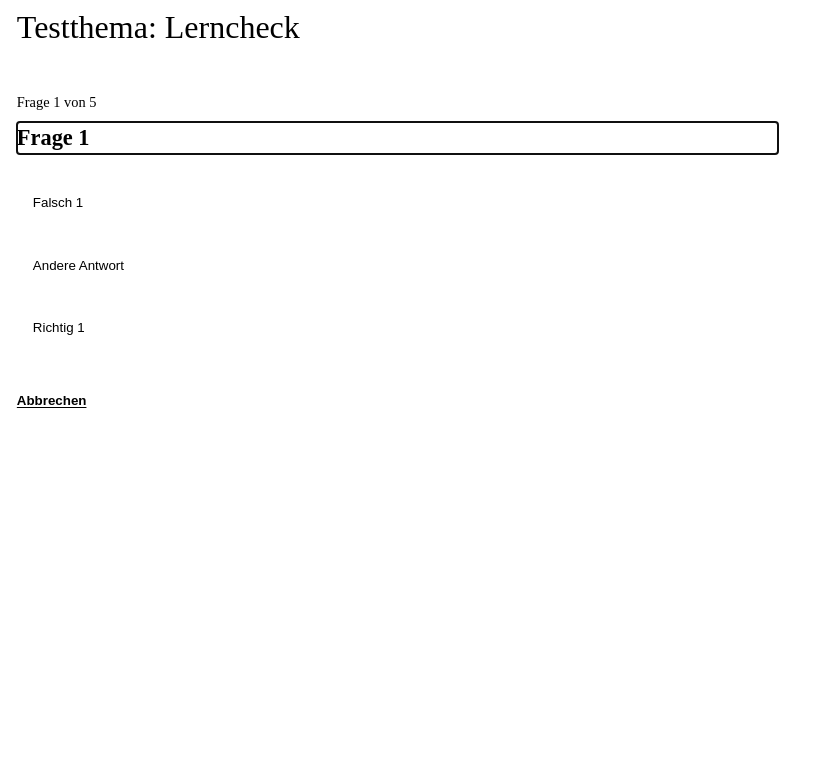
LearningCheck › reports failed saving at the result without retrying the same run
Step 1. Click the button "Richtig 1" → (59, 328), box 17,302 -> 809,354
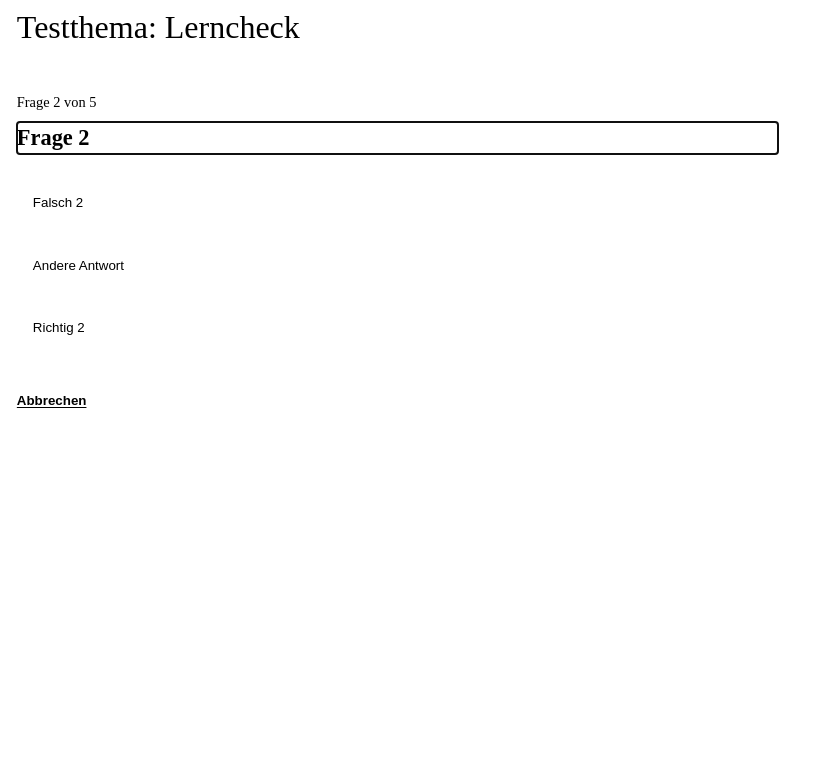
Step 2. Click the button "Richtig 2" → (59, 328), box 17,302 -> 809,354
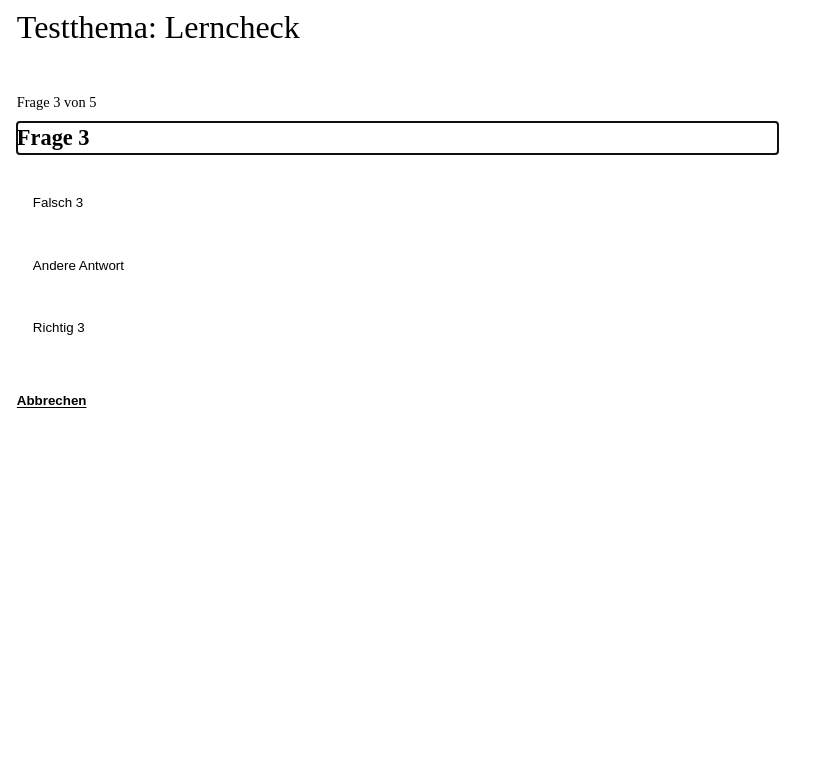
Step 3. Click the button "Richtig 3" → (59, 328), box 17,302 -> 809,354
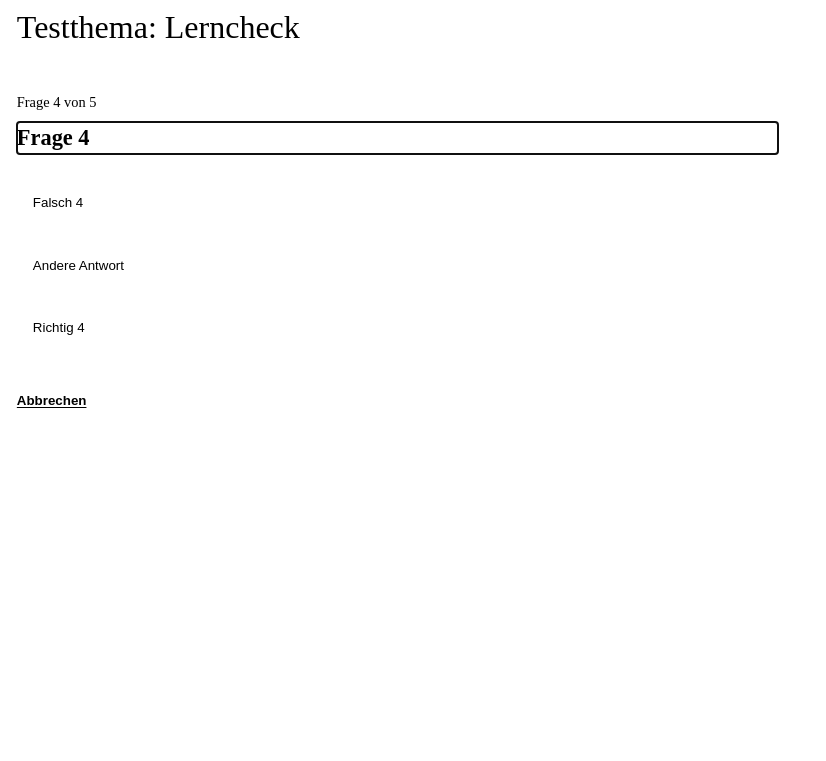
Step 4. Click the button "Richtig 4" → (59, 328), box 17,302 -> 809,354
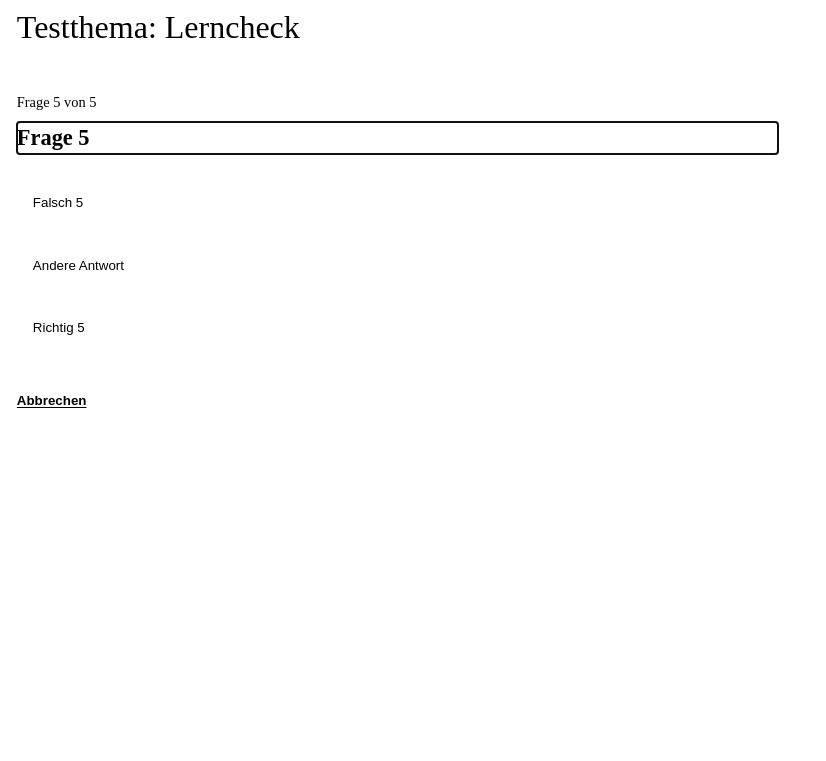
Step 5. Click the button "Richtig 5" → (59, 328), box 17,302 -> 809,354
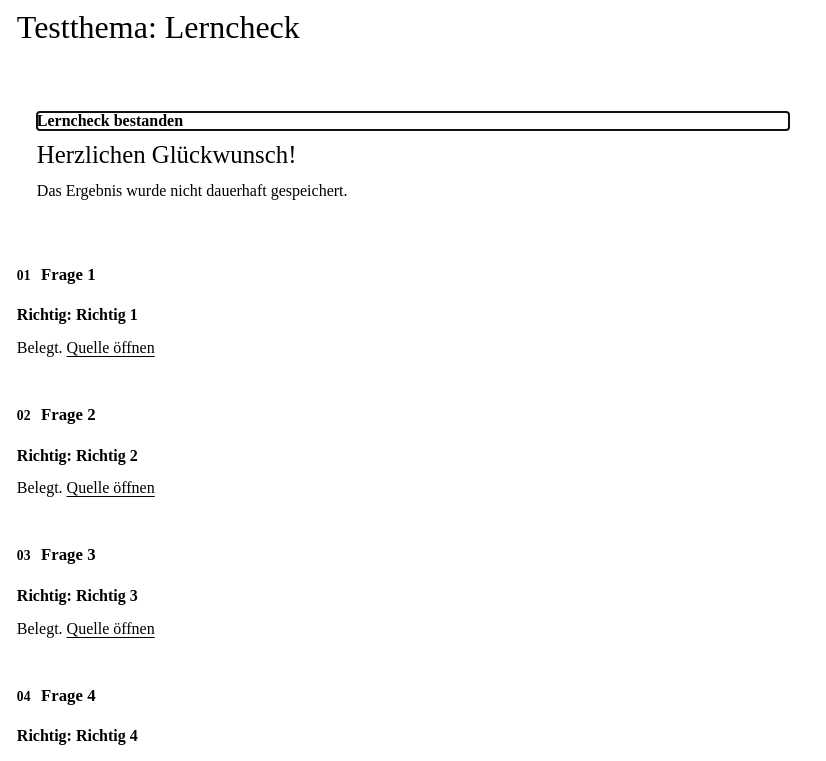
Result: the message "Das Ergebnis wurde nicht dauerhaft gespeichert." is shown at 37,182 -> 348,200
